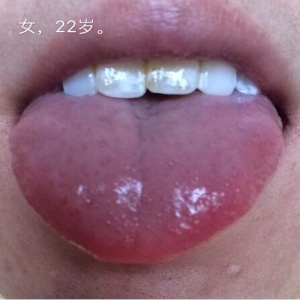st: (9, 102, 288, 258)
